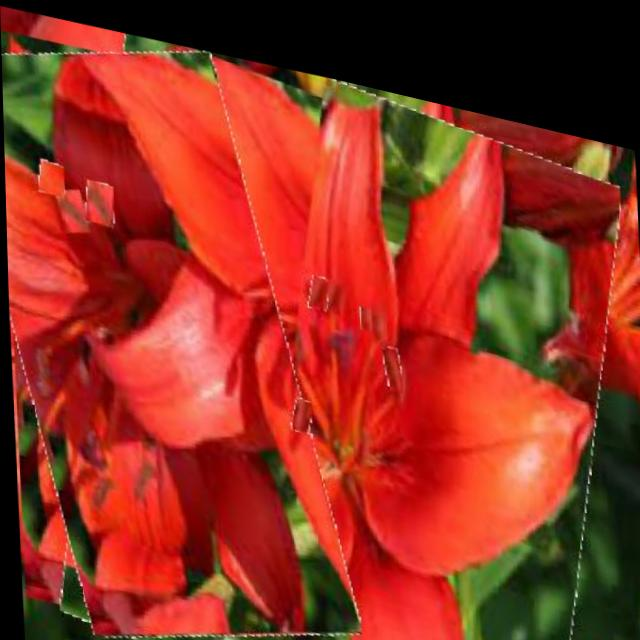Flower: (54, 10, 623, 640), (0, 12, 331, 640), (84, 176, 115, 225), (38, 157, 63, 196), (382, 328, 401, 375), (306, 259, 328, 299), (288, 381, 309, 421), (358, 289, 372, 317)
